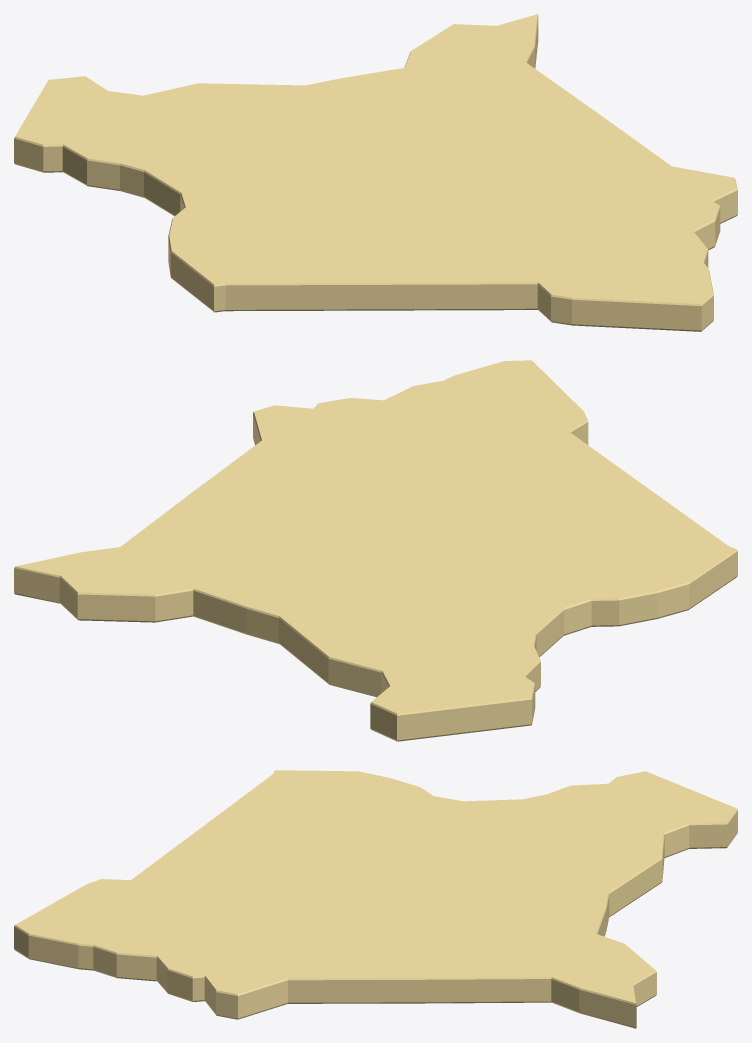
Rendered from KEN.glb.
3 views of the same model, one above another, from view 1: azimuth 30°, elevation 25°; view 2: azimuth 150°, elevation 25°; view 3: azimuth 270°, elevation 25° (orthographic). The views are drawn at different scales.
Bounding box in the file's own units: 1.34 × 0.068 × 1.75.
